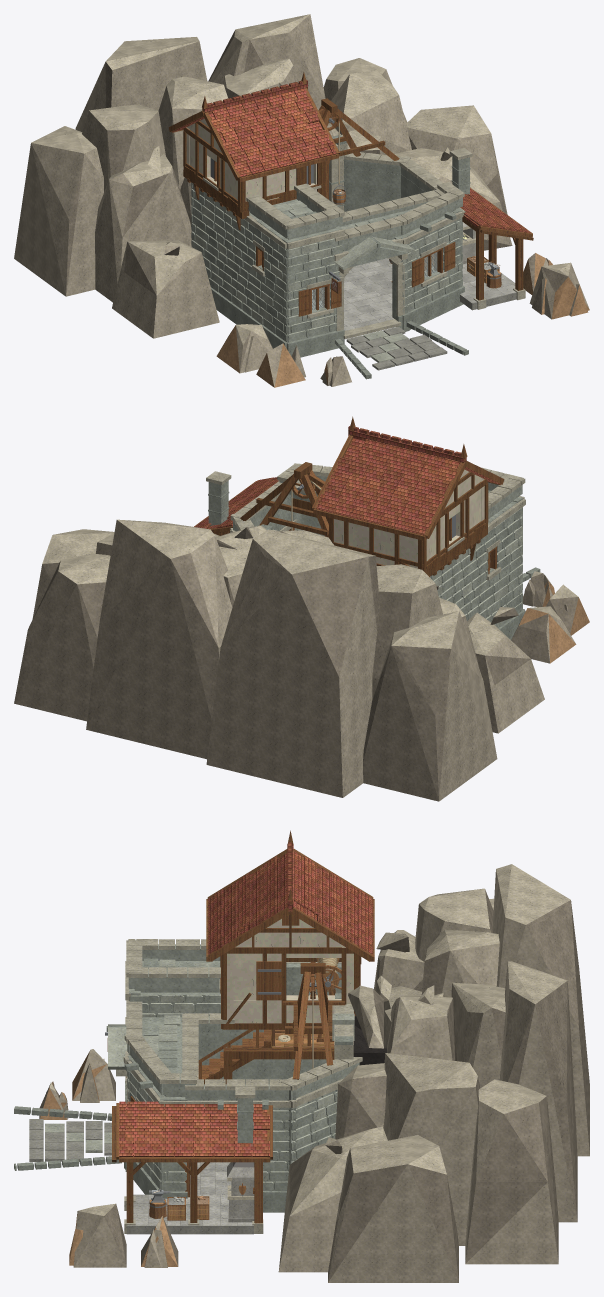
Rendered from quarry.glb.
3 renders of one model, top to bottom at view 1: azimuth 30°, elevation 25°; view 2: azimuth 150°, elevation 25°; view 3: azimuth 270°, elevation 25°, orthographic. The views are drawn at different scales.
Parts seen in each view (by area): view 1: Quarry_RockMain, Quarry_ShellMain, Quarry_RoofMain, Quarry_OreRockMain, Quarry_UpperShellMain, Quarry_FloorMainTiles, Quarry_FloorApproachMain, Quarry_FurnishingPropsSmithy, Quarry_FurnishingMain, Quarry_FloorLeanToMainTiles, Quarry_StepMain; view 2: Quarry_RockMain, Quarry_RoofMain, Quarry_ShellMain, Quarry_UpperShellMain, Quarry_OreRockMain; view 3: Quarry_RockMain, Quarry_RoofMain, Quarry_ShellMain, Quarry_UpperShellMain, Quarry_OreRockMain, Quarry_FloorApproachMain, Quarry_FurnishingPropsSmithy, Quarry_FurnishingMain, Quarry_FloorLeanToMainTiles, Quarry_FloorLeanToMain, Quarry_FloorMainTiles, Quarry_ServiceShaft_Mouth (+2 smaller).
Boxes of the visible parts, x1=… form: Quarry_RockMain: x1=14, y1=14, x2=512, y2=338; Quarry_ShellMain: x1=191, y1=135, x2=533, y2=357; Quarry_RoofMain: x1=168, y1=72, x2=532, y2=274; Quarry_OreRockMain: x1=216, y1=253, x2=589, y2=387; Quarry_UpperShellMain: x1=183, y1=127, x2=325, y2=230; Quarry_FloorMainTiles: x1=312, y1=258, x2=426, y2=330; Quarry_FloorApproachMain: x1=346, y1=326, x2=447, y2=370; Quarry_FurnishingPropsSmithy: x1=462, y1=222, x2=501, y2=288; Quarry_FurnishingMain: x1=335, y1=321, x2=468, y2=379; Quarry_FloorLeanToMainTiles: x1=432, y1=263, x2=516, y2=303; Quarry_StepMain: x1=343, y1=319, x2=401, y2=339; Quarry_RockMain: x1=14, y1=519, x2=544, y2=801; Quarry_RoofMain: x1=194, y1=416, x2=525, y2=540; Quarry_ShellMain: x1=206, y1=471, x2=525, y2=639; Quarry_UpperShellMain: x1=329, y1=479, x2=488, y2=577; Quarry_OreRockMain: x1=511, y1=571, x2=589, y2=663; Quarry_RockMain: x1=278, y1=864, x2=589, y2=1282; Quarry_RoofMain: x1=106, y1=830, x2=374, y2=1162; Quarry_ShellMain: x1=105, y1=961, x2=354, y2=1233; Quarry_UpperShellMain: x1=219, y1=947, x2=361, y2=1029; Quarry_OreRockMain: x1=39, y1=1049, x2=178, y2=1267; Quarry_FloorApproachMain: x1=29, y1=1119, x2=111, y2=1161; Quarry_FurnishingPropsSmithy: x1=149, y1=1162, x2=254, y2=1222; Quarry_FurnishingMain: x1=14, y1=1029, x2=284, y2=1170; Quarry_FloorLeanToMainTiles: x1=127, y1=1194, x2=253, y2=1225; Quarry_FloorLeanToMain: x1=126, y1=1225, x2=253, y2=1234; Quarry_FloorMainTiles: x1=190, y1=1162, x2=231, y2=1194; Quarry_ServiceShaft_Mouth: x1=353, y1=1016, x2=386, y2=1065.
Bounding box in the file's own units: 18 × 9.37 × 18.47.
Materials: 38 (28 with a texture image).
